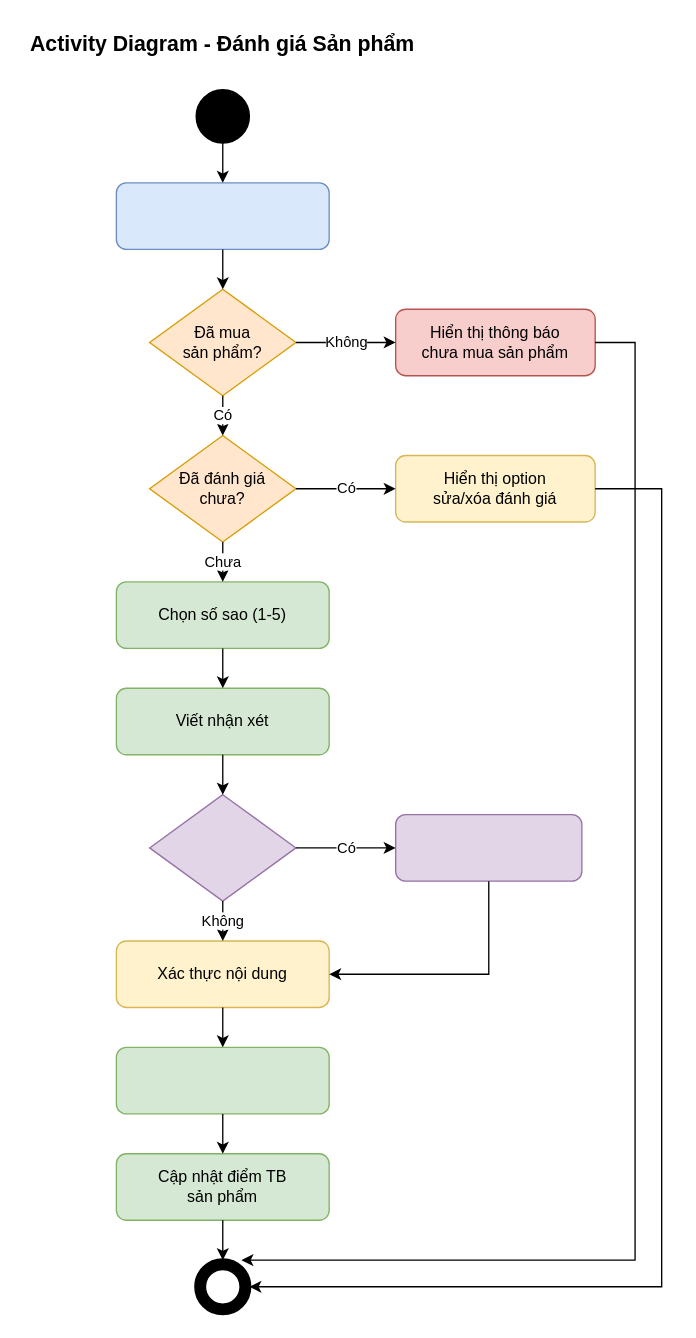
This 696x1338 diagram has some shape labels left out. The centre of each missing label's shape, as x and y in pixels:
Lưu đánh giá vào DB: (222,1080)
Tải lên hình ảnh: (488,847)
Tải ảnh lên?: (222,847)
Xem sản phẩm đã mua: (222,215)
